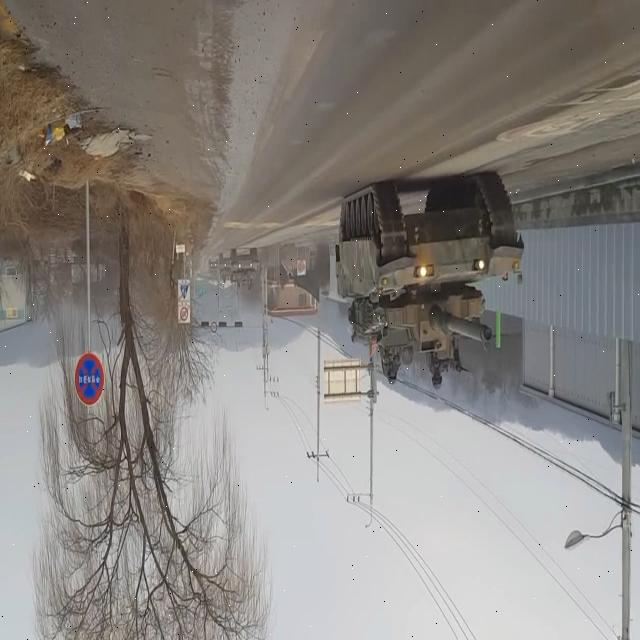korea tank: (333, 167, 527, 389)
